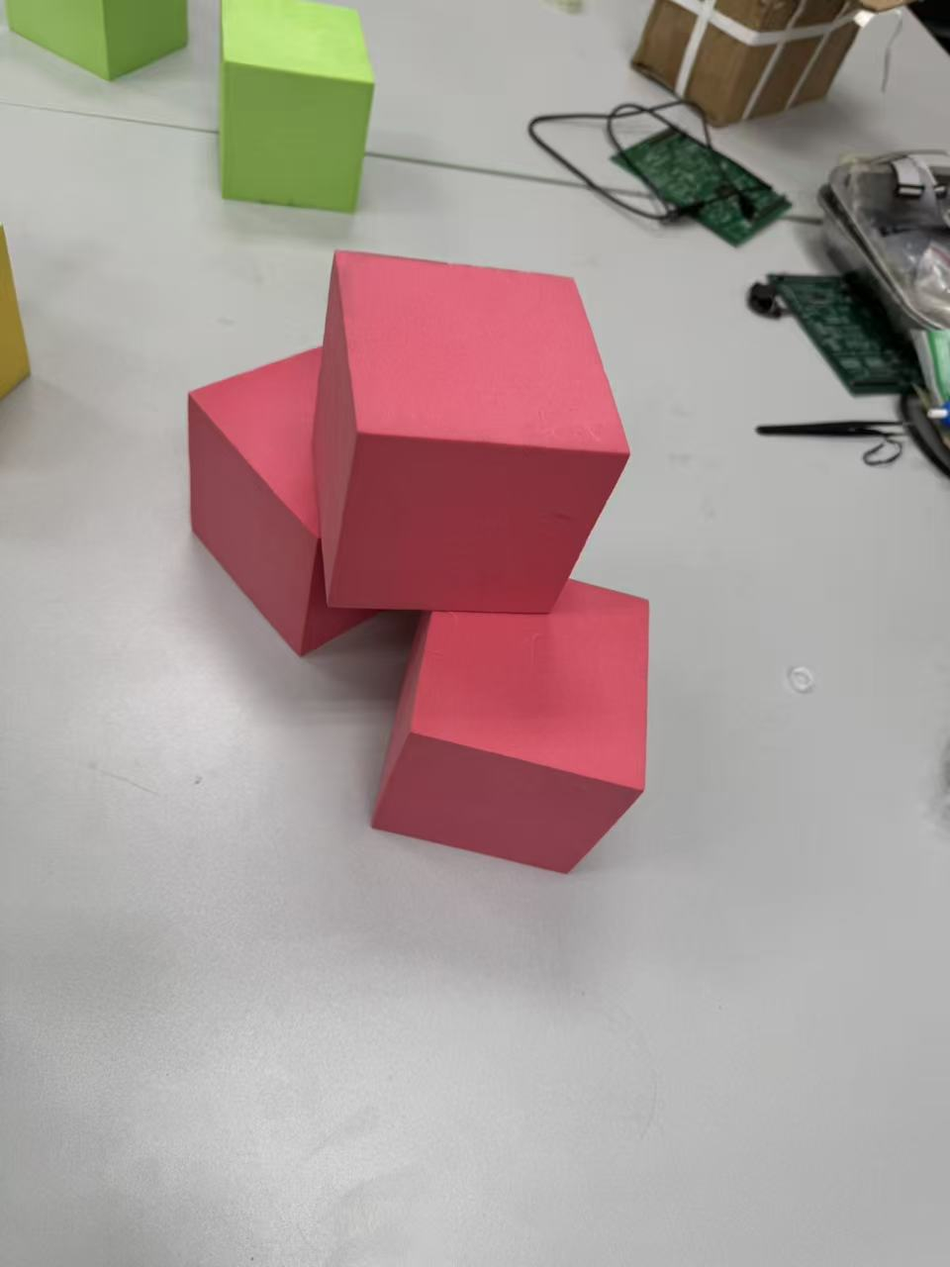green_small: (217, 0, 377, 214)
red_small: (307, 249, 628, 617), (368, 567, 650, 871), (191, 340, 414, 656)
